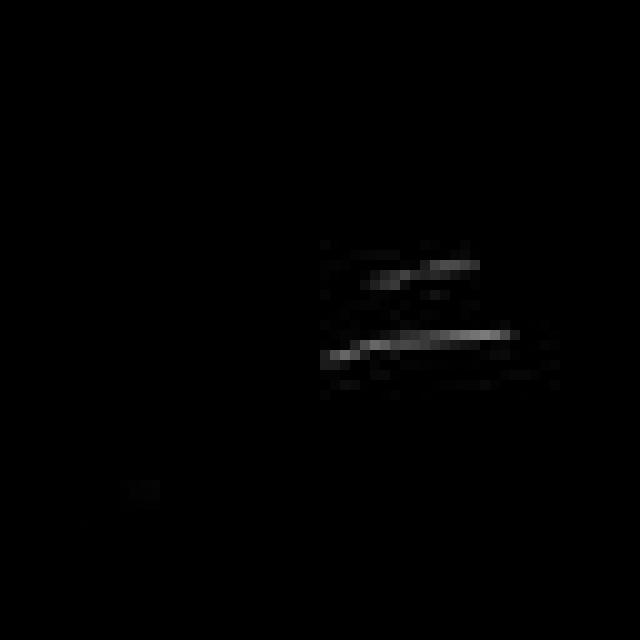2 -two-: (321, 243, 523, 374)
